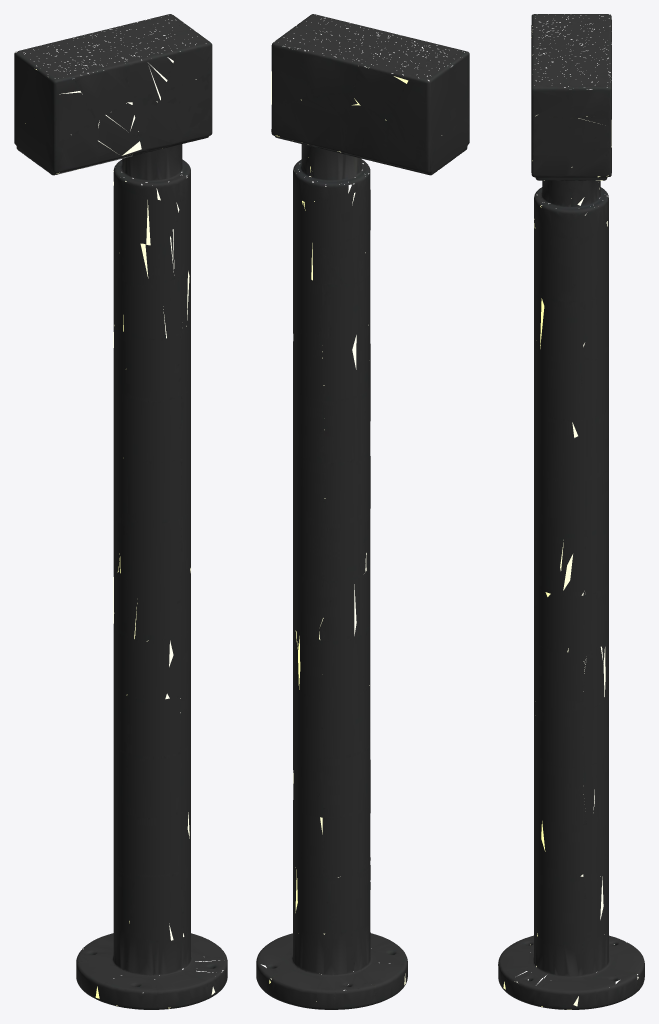
File: post-security-lamp-mesh.glb
3 renders of one model, left to right at view 1: azimuth 30°, elevation 25°; view 2: azimuth 150°, elevation 25°; view 3: azimuth 270°, elevation 25°, orthographic. The views are drawn at different scales.
Visible parts, largest first — view 1: mesh_node; view 2: mesh_node; view 3: mesh_node.
Part boxes in pixels (x1,y1,x2,y2): mesh_node: (14,14,227,1009); mesh_node: (256,14,469,1009); mesh_node: (498,14,644,1009).
Bounding box in the file's own units: 0.3886 × 1.9 × 0.2777.
Materials: 2 (1 with a texture image).
